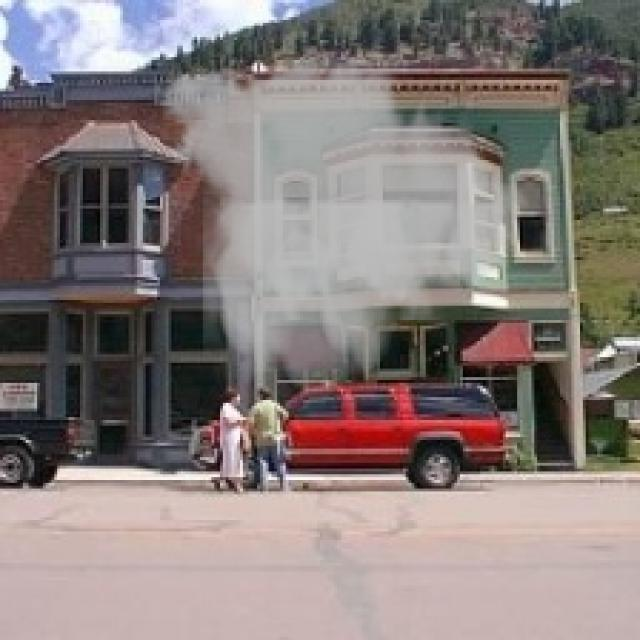Smoke: (143, 46, 540, 403)
